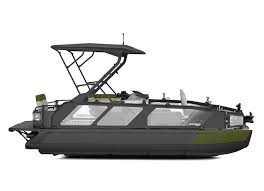boat: (9, 33, 254, 159)
